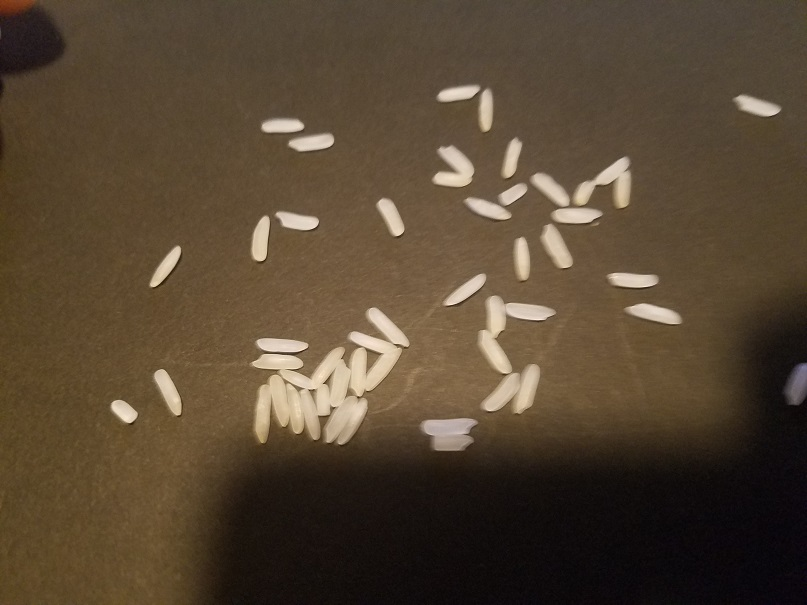egg: (361, 346, 403, 396), (365, 307, 412, 348), (321, 394, 359, 444), (474, 328, 512, 376), (440, 271, 489, 308), (538, 222, 573, 273), (479, 371, 522, 412), (528, 170, 574, 208), (621, 299, 685, 326), (336, 398, 371, 447), (513, 361, 543, 416), (150, 368, 184, 416), (309, 345, 347, 384), (592, 154, 631, 192), (150, 244, 183, 288), (461, 193, 516, 219), (435, 142, 477, 176), (251, 382, 273, 444), (731, 92, 784, 117), (374, 197, 406, 238), (347, 328, 395, 355), (779, 360, 807, 406), (419, 416, 482, 436), (284, 130, 335, 154), (267, 372, 289, 425), (483, 292, 506, 342), (499, 135, 523, 182), (300, 389, 322, 440), (505, 301, 557, 322), (611, 166, 634, 213), (433, 81, 482, 103), (285, 383, 305, 436), (329, 357, 352, 403), (273, 208, 321, 230), (253, 335, 311, 353), (257, 115, 306, 136), (249, 352, 305, 370), (277, 369, 320, 392), (513, 235, 534, 282), (350, 345, 369, 396), (251, 214, 270, 265), (605, 270, 661, 287), (550, 207, 604, 224), (430, 433, 474, 453), (109, 397, 140, 425), (497, 181, 529, 208), (478, 85, 494, 137), (429, 170, 472, 187), (572, 177, 596, 207), (315, 381, 332, 418)
